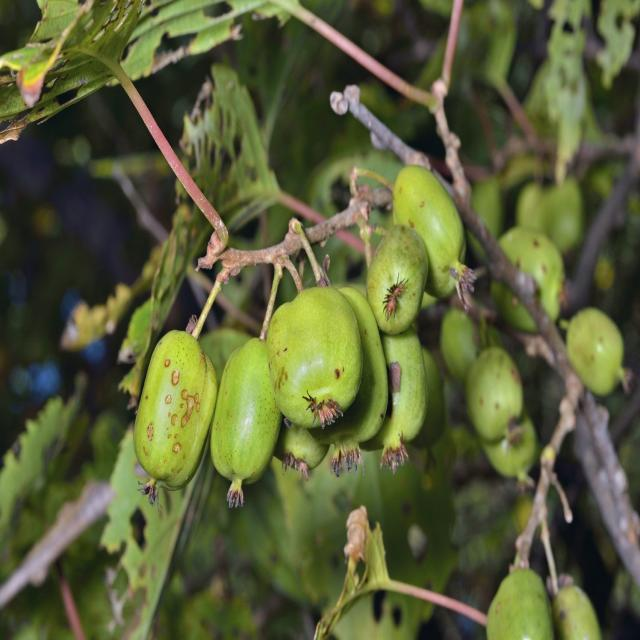kiwi: (133, 163, 624, 507), (305, 285, 389, 475), (132, 328, 218, 492), (266, 284, 362, 430), (210, 336, 282, 508), (359, 323, 428, 471), (392, 163, 466, 300), (489, 225, 565, 333), (366, 222, 428, 334), (464, 345, 524, 443), (565, 306, 625, 396), (515, 176, 583, 254), (486, 567, 554, 639), (482, 410, 536, 478), (411, 345, 445, 449), (273, 418, 329, 480), (465, 176, 504, 265), (198, 326, 254, 386), (439, 306, 478, 382), (552, 584, 602, 639)
